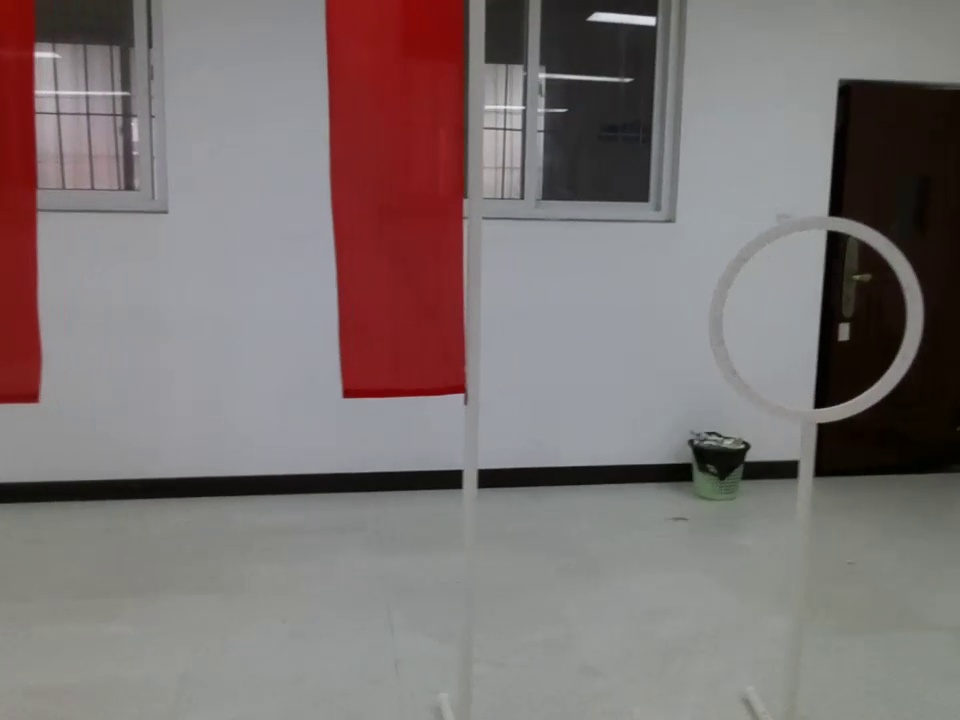qi: (314, 3, 480, 429), (1, 1, 56, 416)
quan: (693, 202, 941, 445)
